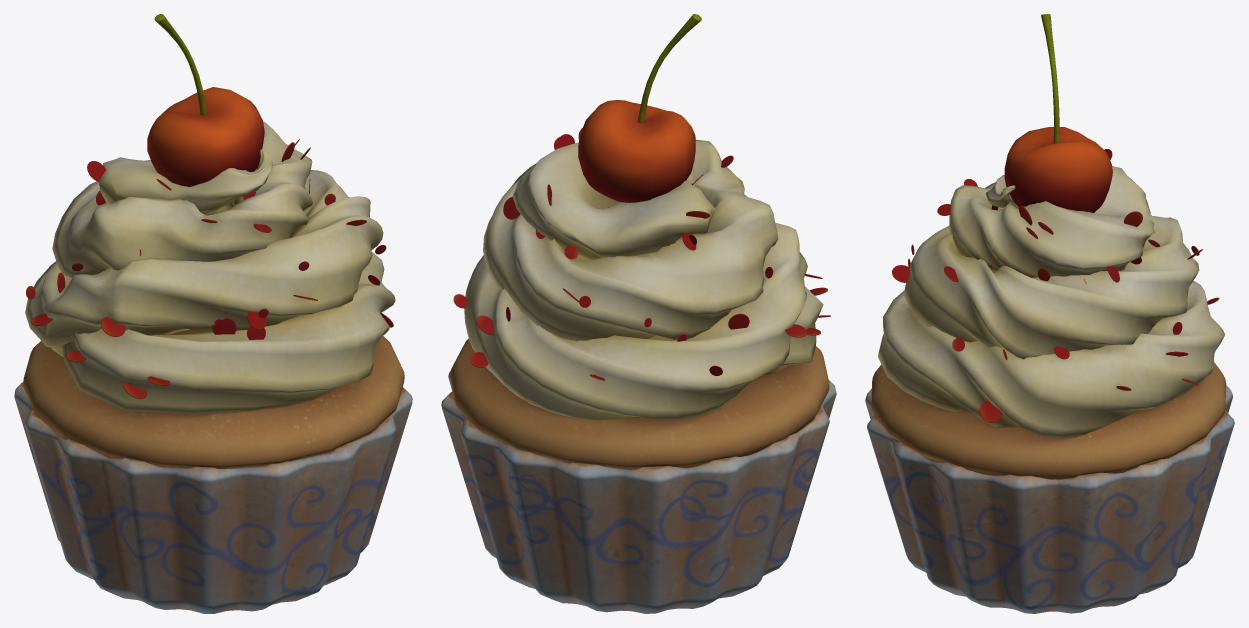
The model's file is cupcake.glb.
The picture shows the model from 3 angles, left to right: view 1: azimuth 30°, elevation 25°; view 2: azimuth 150°, elevation 25°; view 3: azimuth 270°, elevation 25°; orthographic projection. The views are drawn at different scales.
Visible parts, largest first — view 1: Object_3, Object_2; view 2: Object_3, Object_2; view 3: Object_3, Object_2.
Boxes of the visible parts, bbox=[...] form: Object_3: bbox=[25, 14, 395, 414]; Object_2: bbox=[14, 139, 412, 613]; Object_3: bbox=[464, 14, 827, 419]; Object_2: bbox=[441, 128, 836, 613]; Object_3: bbox=[878, 14, 1224, 438]; Object_2: bbox=[865, 149, 1234, 613].
Bounding box in the file's own units: 1.9 × 2.98 × 1.89.
Materials: 1 (1 with a texture image).
